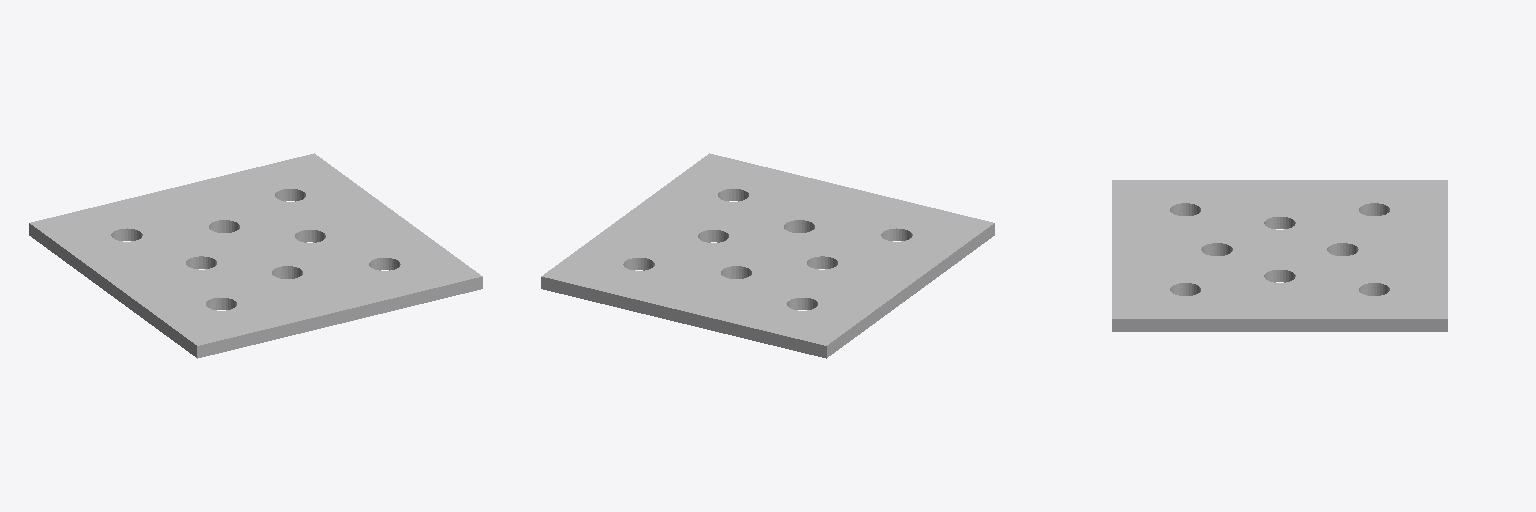
File: baseWithHole2.obj
3 renders of one model, left to right at view 1: azimuth 30°, elevation 25°; view 2: azimuth 150°, elevation 25°; view 3: azimuth 270°, elevation 25°, orthographic.
Parts seen in each view (by area): view 1: 立方体; view 2: 立方体; view 3: 立方体.
Part boxes in pixels (x1,y1,x2,y2): 立方体: (29, 153, 482, 358); 立方体: (541, 153, 994, 358); 立方体: (1112, 180, 1447, 331).
Bounding box in the file's own units: 10.47 × 0.4411 × 10.7.